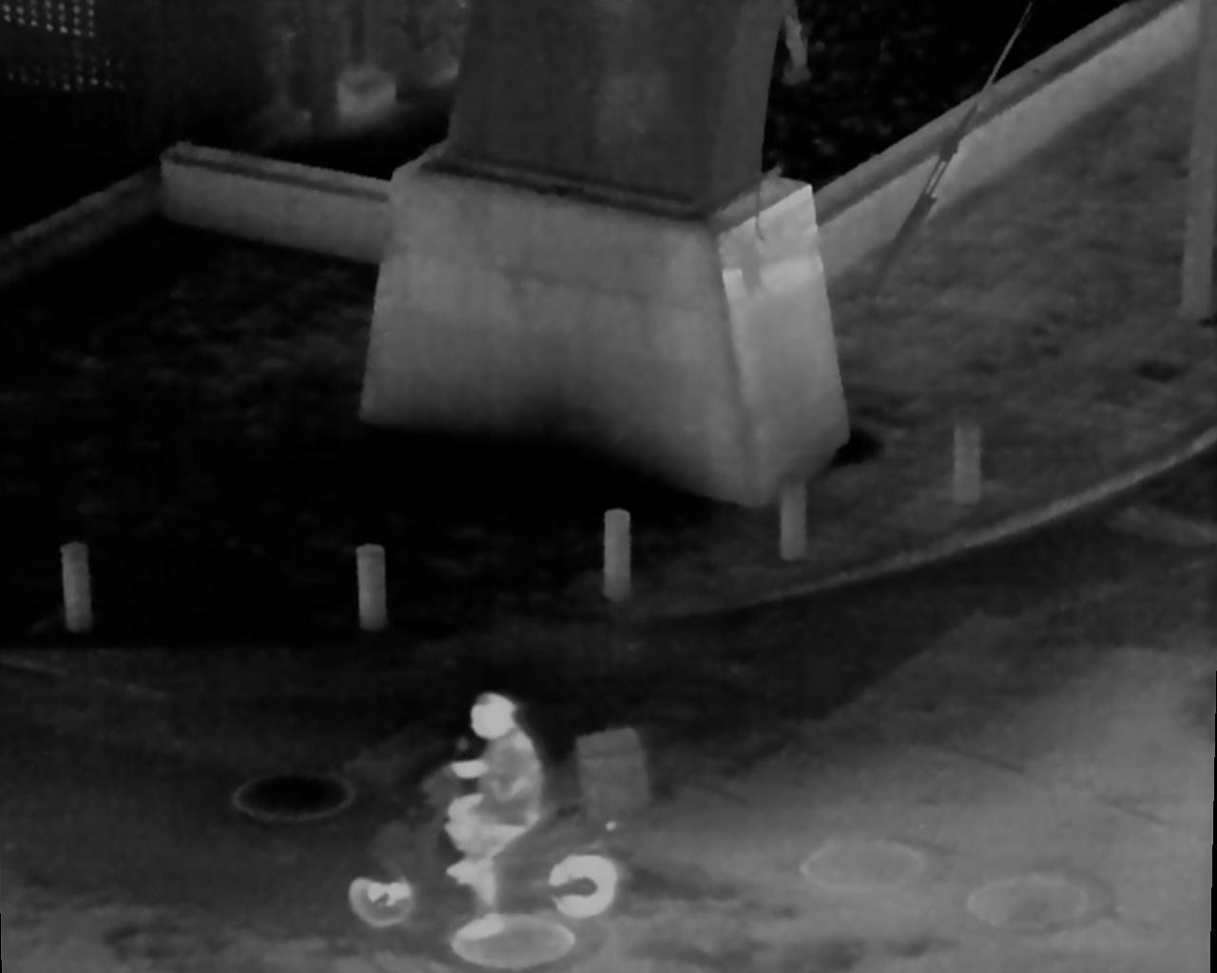person: (447, 694, 546, 906)
